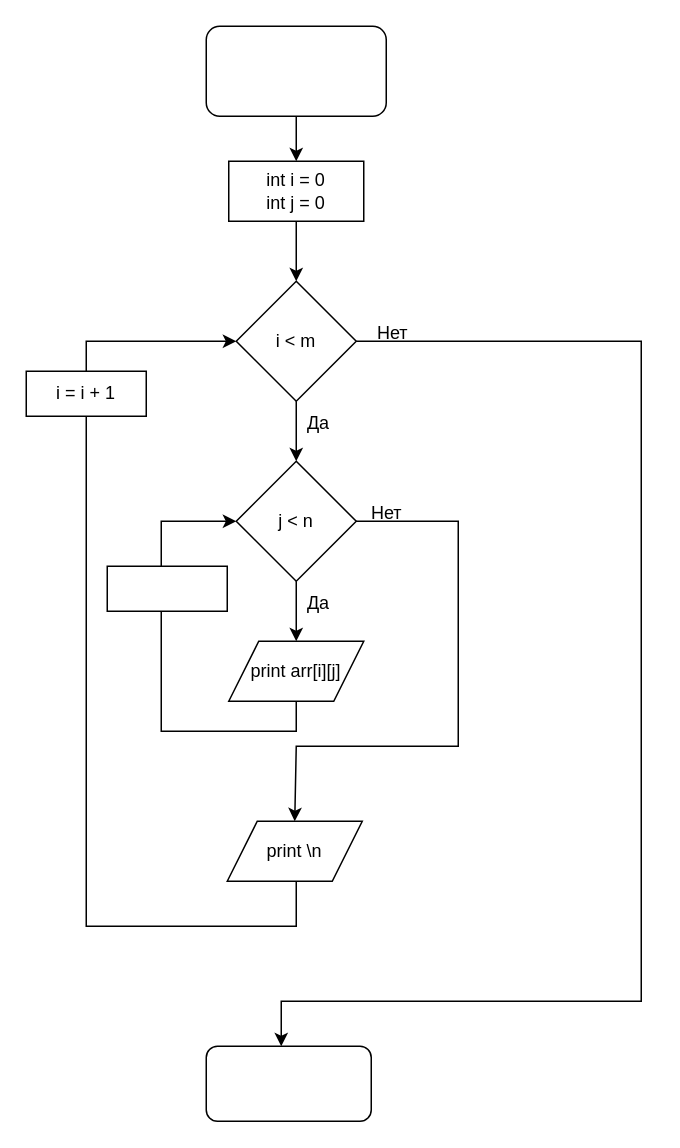
The diagram is 680 pixels wide and 1148 high, and some of its shapes have lost their labels. The centre of each missing label's shape, as x and y in pixels:
"j = j + 1" belongs at pixel 166 588.
"Конец" belongs at pixel 288 1083.
"Начало" belongs at pixel 295 70.
